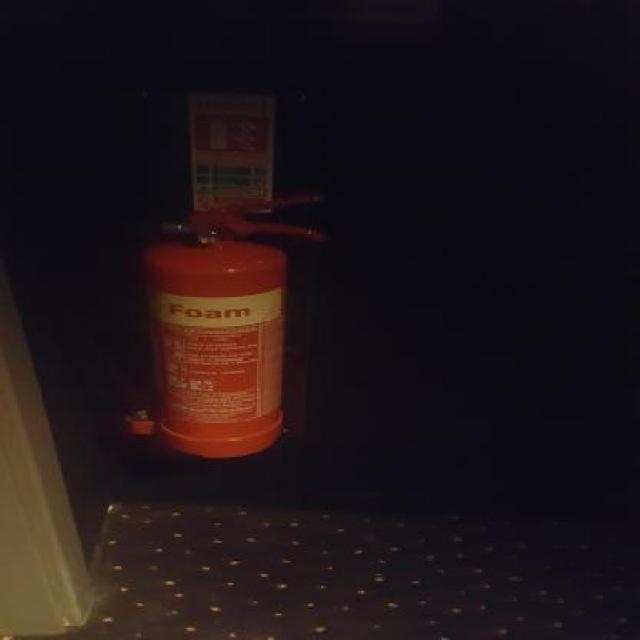fire extinguisher: (122, 193, 324, 459)
